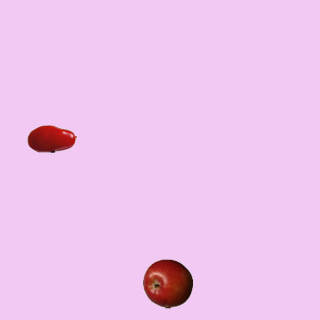Apple Braeburn: (142, 258, 192, 308)
Tomato 2: (26, 113, 76, 163)
